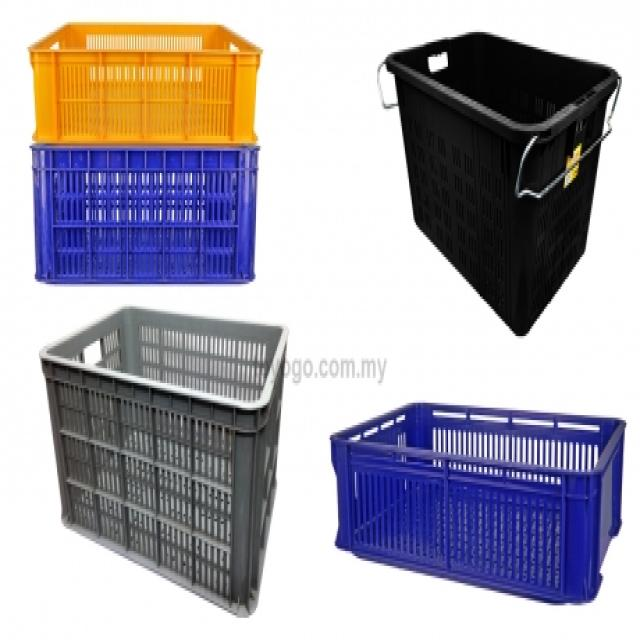basket: (343, 15, 622, 343), (23, 300, 288, 618), (320, 399, 630, 608), (31, 147, 259, 283), (28, 22, 262, 147)
